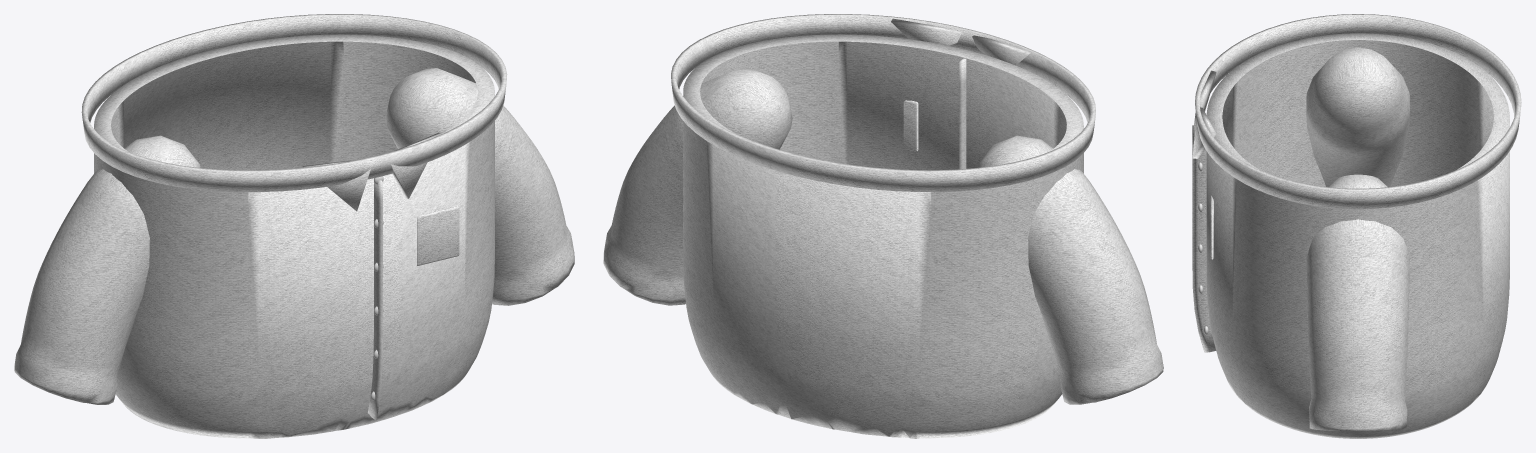
The model's file is buttonshirt1.fbx.
The picture shows the model from 3 angles, left to right: view 1: azimuth 30°, elevation 25°; view 2: azimuth 150°, elevation 25°; view 3: azimuth 270°, elevation 25°; orthographic projection. The views are drawn at different scales.
Visible parts, largest first — view 1: buttonshirt1; view 2: buttonshirt1; view 3: buttonshirt1.
Boxes of the visible parts, x1=… form: buttonshirt1: x1=14, y1=14, x2=574, y2=438; buttonshirt1: x1=603, y1=14, x2=1163, y2=438; buttonshirt1: x1=1192, y1=14, x2=1521, y2=438.
Bounding box in the file's own units: 1.26 × 0.6203 × 0.7035.
Materials: 2 (1 with a texture image).
